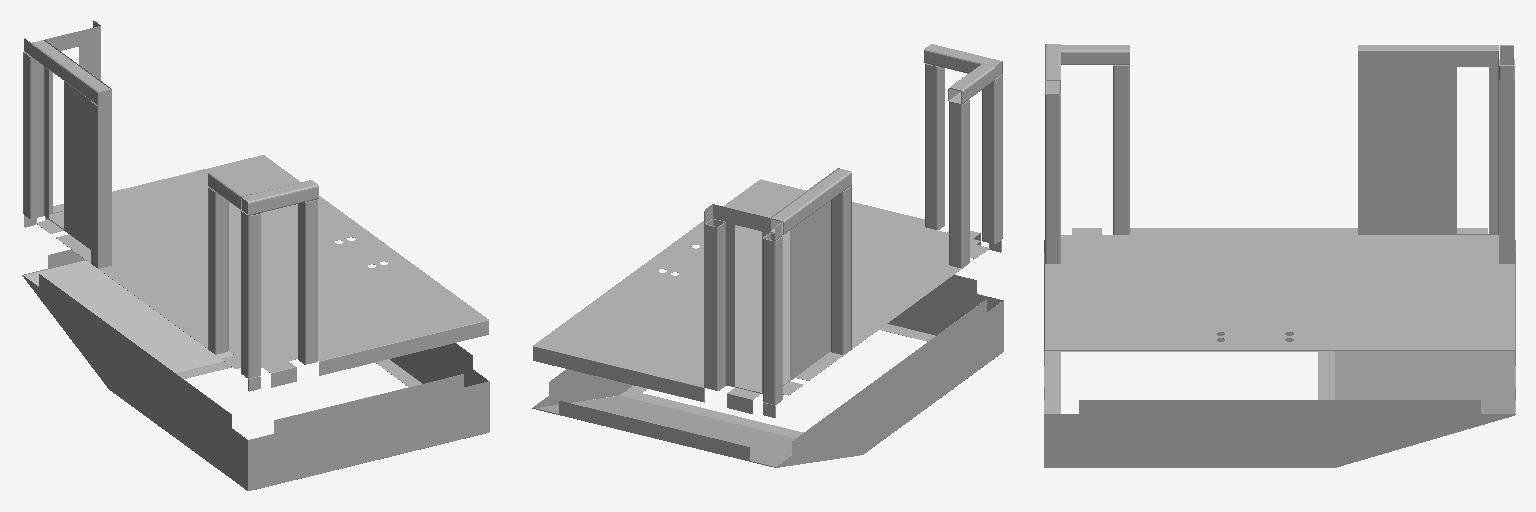
robot.urdf — tuoche:
<?xml version="1.0" encoding="utf-8"?>
<!-- This URDF was automatically created by SolidWorks to URDF Exporter! Originally created by [author] ([email redacted]) 
     Commit Version: 1.6.0-1-g15f4949  Build Version: 1.6.7594.29634
     For more information, please see http://wiki.ros.org/sw_urdf_exporter -->
<robot
  name="tuoche">
  <link
    name="base_tuoche">
    <inertial>
      <origin
        xyz="-0.351435599327956 -0.00648529976877721 0.235159953503967"
        rpy="0 0 0" />
      <mass
        value="138.276739295406" />
      <inertia
        ixx="22.5051721218961"
        ixy="-0.153519393546349"
        ixz="0.00600007438977771"
        iyy="11.8824550502389"
        iyz="-0.549519481475303"
        izz="24.373146508735" />
    </inertial>
    <visual>
      <origin
        xyz="0 0 0"
        rpy="0 0 0" />
      <geometry>
        <mesh
          filename="package://tuoche/meshes/base_tuoche.STL" />
      </geometry>
      <material
        name="">
        <color
          rgba="0.752941176470588 0.752941176470588 0.752941176470588 1" />
      </material>
    </visual>
    <collision>
      <origin
        xyz="0 0 0"
        rpy="0 0 0" />
      <geometry>
        <mesh
          filename="package://tuoche/meshes/base_tuoche.STL" />
      </geometry>
    </collision>
  </link>
</robot>

--- What the picture shows (computed from the rendered views, not written in the file) ---
3 views of the same robot in one strip: view 1: azimuth 30°, elevation 25°; view 2: azimuth 150°, elevation 25°; view 3: azimuth 270°, elevation 25° (orthographic).
Robot: tuoche — 1 links, 0 joints (none); root link base_tuoche; default pose: all joints at 0.
Links seen in each view (by area): view 1: base_tuoche; view 2: base_tuoche; view 3: base_tuoche.
Link boxes in pixels (<box>): base_tuoche: <box>22,21,489,490</box>; base_tuoche: <box>532,44,1003,467</box>; base_tuoche: <box>1044,44,1515,467</box>.
Size in the robot's own frame: 1.4 by 2.27 by 1.6 metres.
Meshes: 1 distinct files referenced, 1 mesh visuals loaded (1 binary STL).
